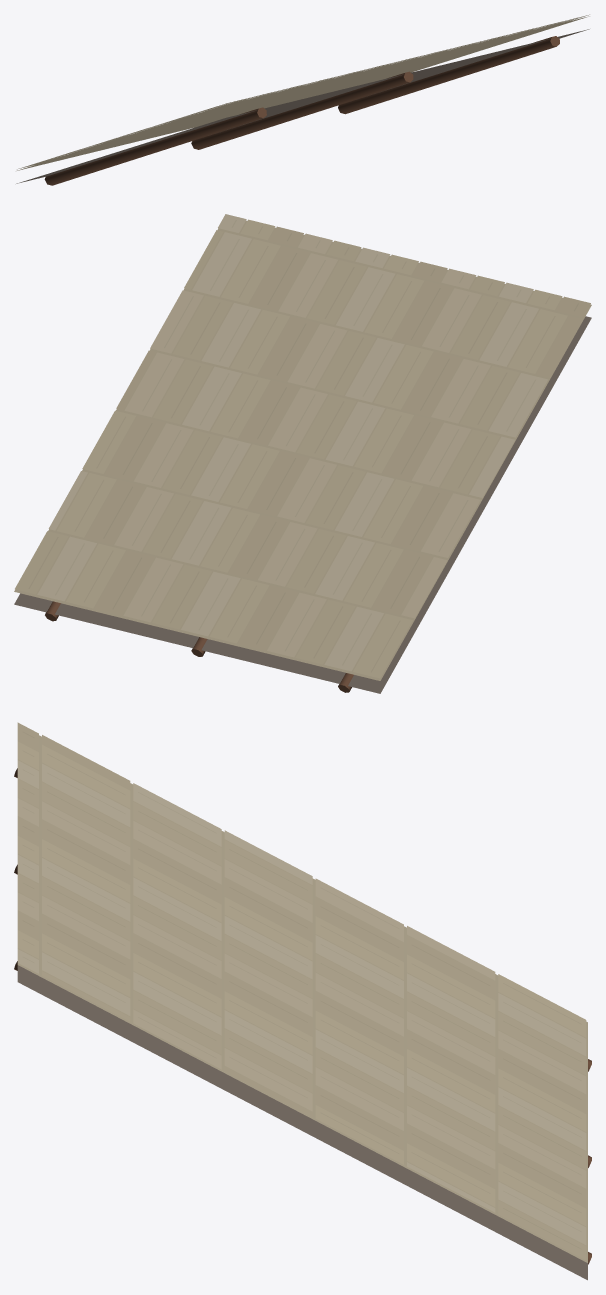
File: Roof_Slope_30.glb
3 renders of one model, top to bottom at view 1: azimuth 30°, elevation 25°; view 2: azimuth 150°, elevation 25°; view 3: azimuth 270°, elevation 25°, orthographic. The views are drawn at different scales.
Parts seen in each view (by area): view 1: _MeshInstance3D_3479, _MeshInstance3D_3481, _MeshInstance3D_3480, _MeshInstance3D_3482; view 2: _MeshInstance3D_3479; view 3: _MeshInstance3D_3479.
Part boxes in pixels (x1,y1,x2,y2): _MeshInstance3D_3479: [16, 14, 589, 183]; _MeshInstance3D_3481: [191, 71, 413, 149]; _MeshInstance3D_3480: [44, 107, 266, 185]; _MeshInstance3D_3482: [338, 36, 559, 114]; _MeshInstance3D_3479: [14, 214, 591, 693]; _MeshInstance3D_3479: [17, 722, 587, 1280].
Bounding box in the file's own units: 3 × 1.91 × 3.04.
